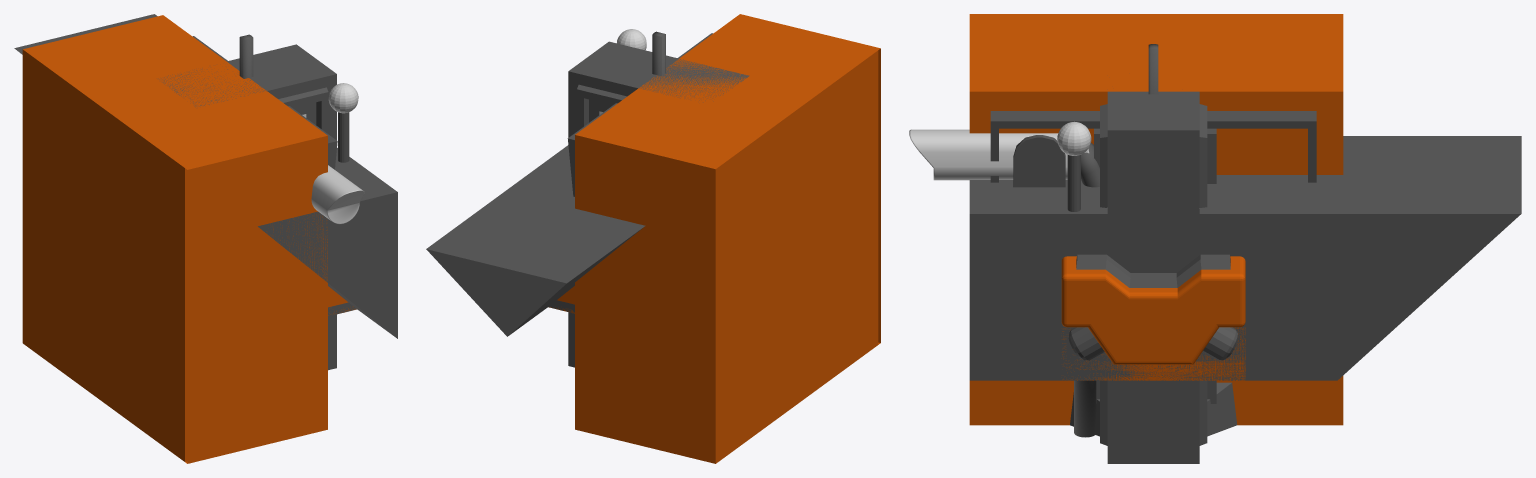
File: CornerCeiling.fbx
The picture shows the model from 3 angles, left to right: view 1: azimuth 30°, elevation 25°; view 2: azimuth 150°, elevation 25°; view 3: azimuth 270°, elevation 25°; orthographic projection. The views are drawn at different scales.
Visible parts, largest first — view 1: Wall2, Wall1, Ceiling, Door, Camera, SwitchLight, Switch, CornerCeiling; view 2: Wall1, Wall2, CornerCeiling, Door, Ceiling, Switch, SwitchLight; view 3: Ceiling, Wall1, CornerCeiling, Door, Cart, Wall2, Camera, CameraRotator, leverStation, SwitchLight, CartRollers, WallFurnish(PipeVertical) (+4 smaller).
Boxes of the visible parts, x1,y1,x2,y2 form: Wall2: [38, 20, 337, 463]; Wall1: [22, 15, 324, 461]; Ceiling: [258, 148, 397, 338]; Door: [158, 44, 336, 370]; Camera: [311, 165, 364, 224]; SwitchLight: [328, 83, 358, 162]; Switch: [239, 34, 253, 78]; CornerCeiling: [14, 14, 157, 54]; Wall1: [575, 16, 878, 463]; Wall2: [567, 14, 880, 344]; CornerCeiling: [426, 189, 645, 336]; Door: [568, 41, 749, 367]; Ceiling: [508, 145, 574, 334]; Switch: [652, 31, 665, 76]; SwitchLight: [617, 29, 646, 50]; Ceiling: [969, 175, 1337, 380]; Wall1: [975, 14, 1343, 425]; CornerCeiling: [1337, 136, 1521, 379]; Door: [1100, 91, 1207, 463]; Cart: [1061, 254, 1245, 364]; Wall2: [969, 14, 1337, 436]; Camera: [909, 129, 1089, 180]; CameraRotator: [1013, 135, 1065, 187]; leverStation: [1063, 361, 1244, 380]; SwitchLight: [1057, 121, 1091, 211]; CartRollers: [1068, 327, 1238, 360]; WallFurnish(PipeVertical): [1074, 380, 1096, 437].
Size of the model in its own units: 175 by 228 by 333.
